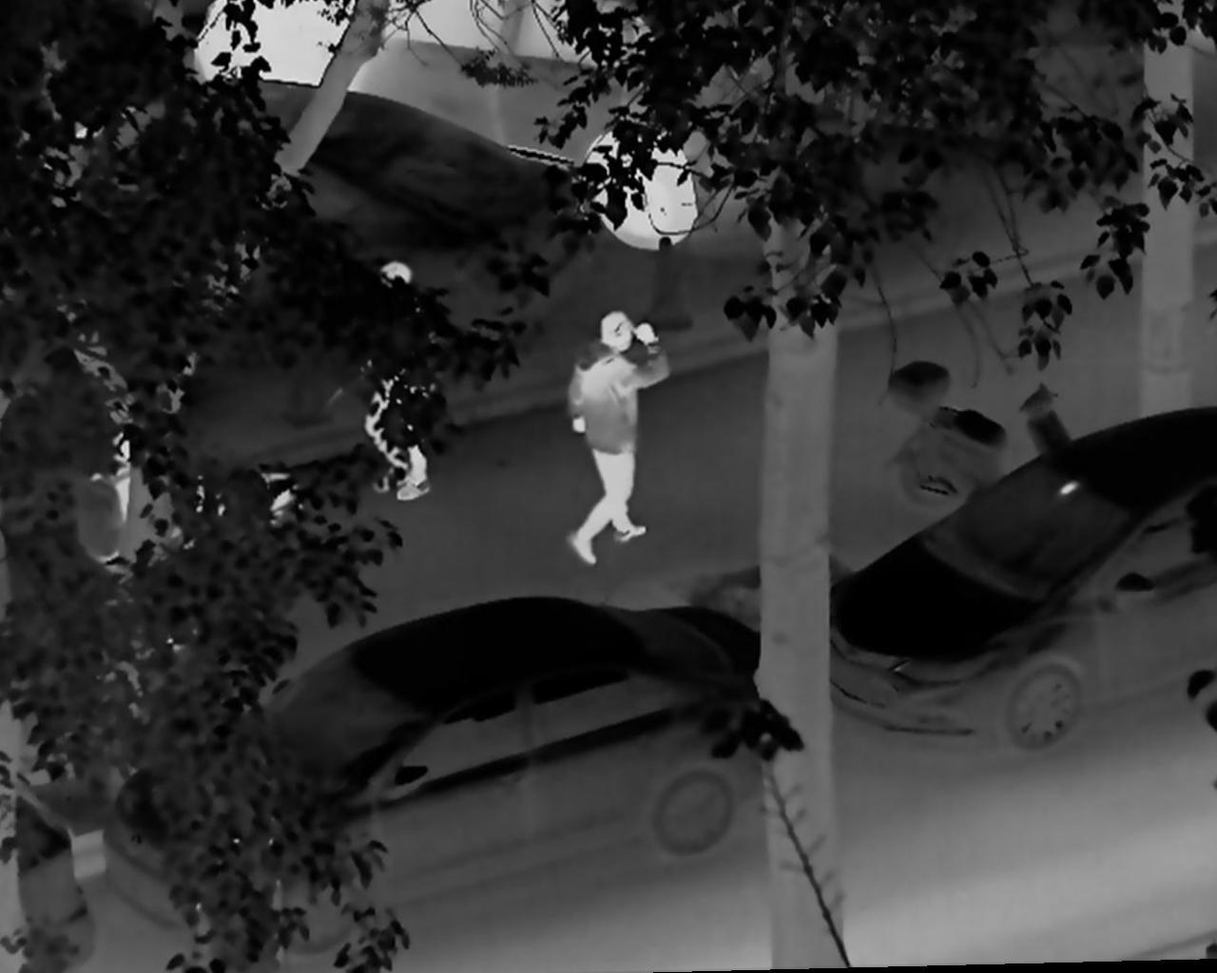person: (557, 308, 671, 565), (355, 263, 439, 504)
